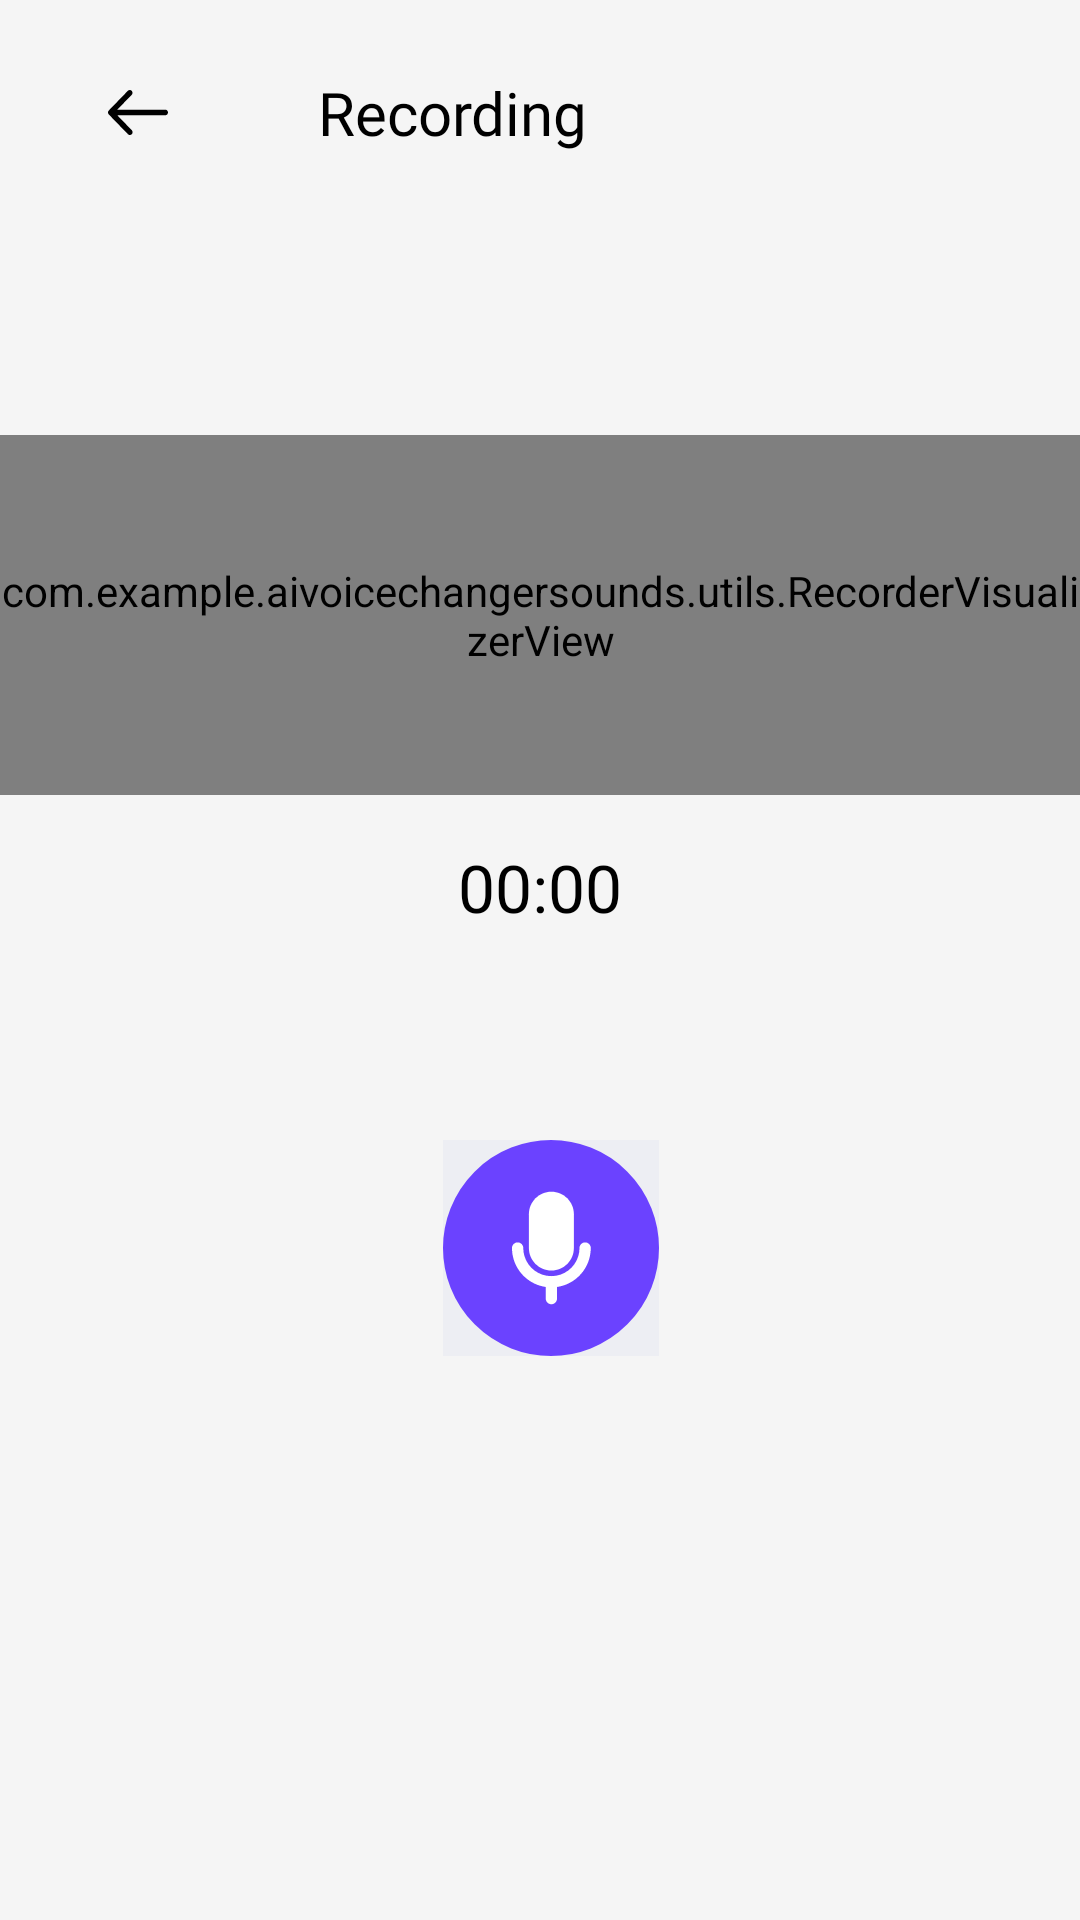

Named icons in this screenshot (1080 x 1920) and their bounding boxes, {"left": x1, "top": y1, "right": x2, "bottom": y2}:
audio: {"left": 443, "top": 1140, "right": 659, "bottom": 1356}
back: {"left": 108, "top": 90, "right": 168, "bottom": 135}
